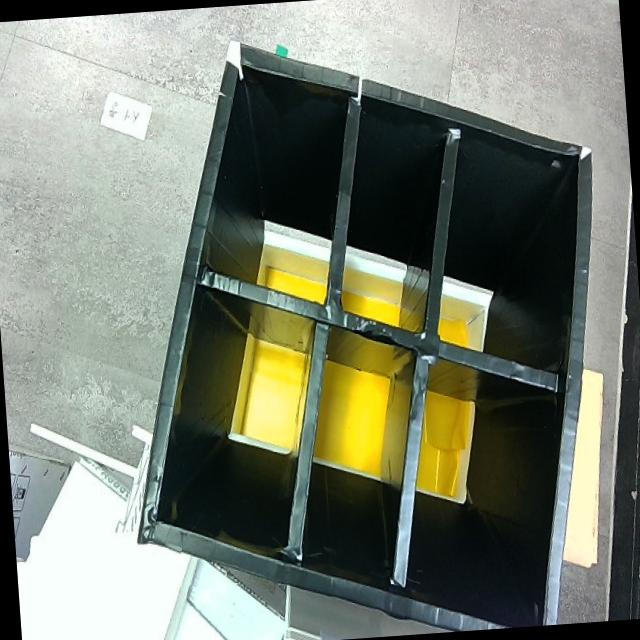box: (95, 8, 628, 640)
